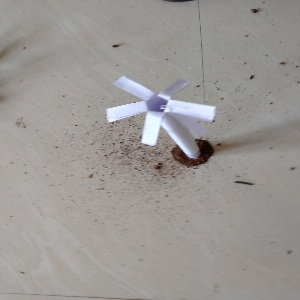weed: (107, 71, 219, 163)
